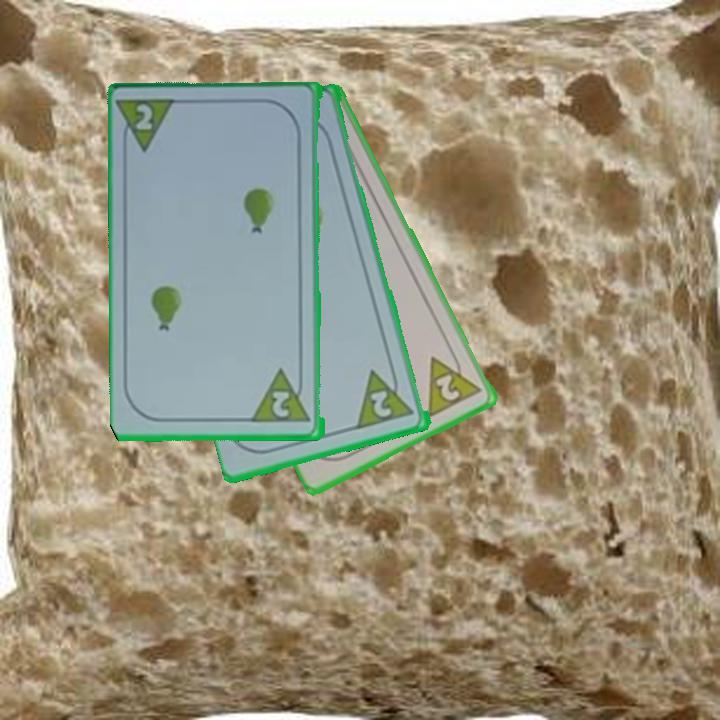2p: (424, 344, 485, 420), (251, 366, 314, 426), (367, 387, 396, 421), (133, 101, 156, 134)
